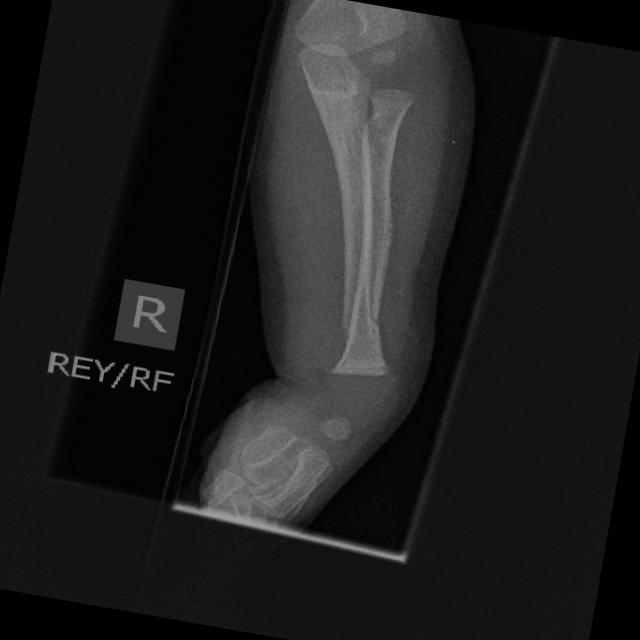forearm fracture: (351, 285, 417, 361)
